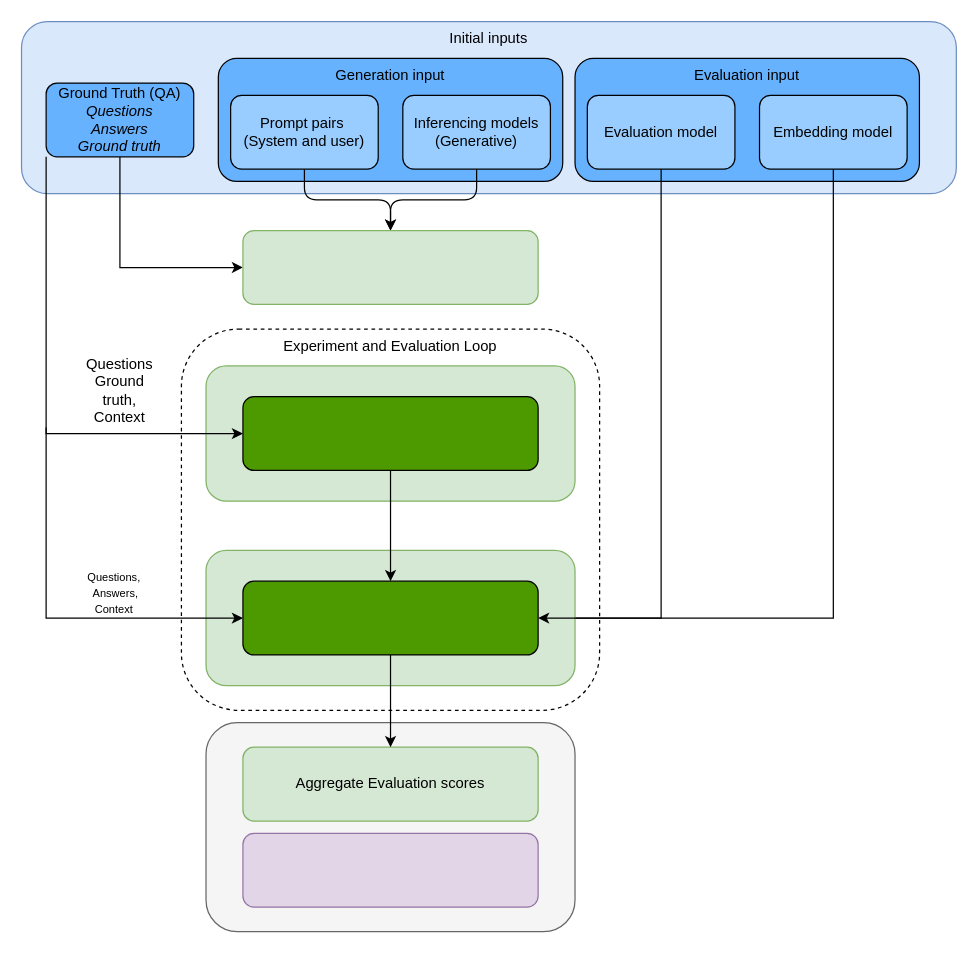
Image size: 978x953. Some labels were removed from this diagram. The shapes that lost their labels are listed below. From the top down, each one's centre as x and y in pixels, then its label:
At (x=390, y=266): "Generate Combinations (Prompt pair x inferencing models)".
At (x=390, y=432): "Run Experiment: Generate Answers".
At (x=390, y=617): "Run Evaluation: Compute scores".
At (x=390, y=869): "Plot and Identify top performer".
